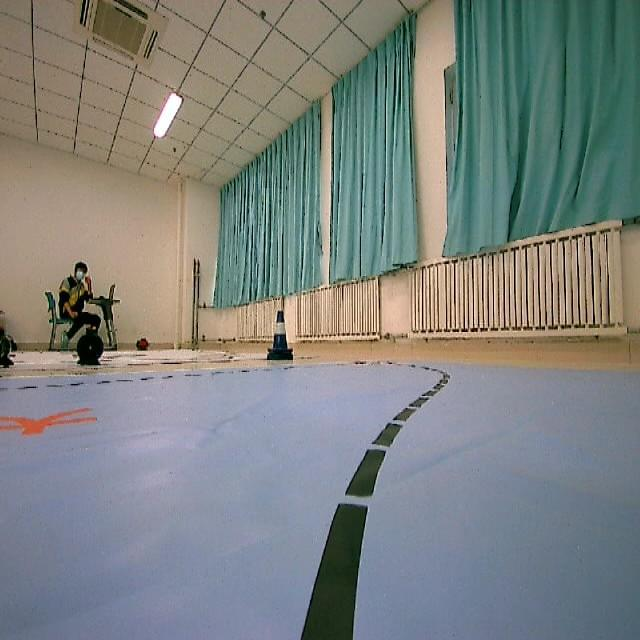obstacle: (266, 303, 294, 367)
